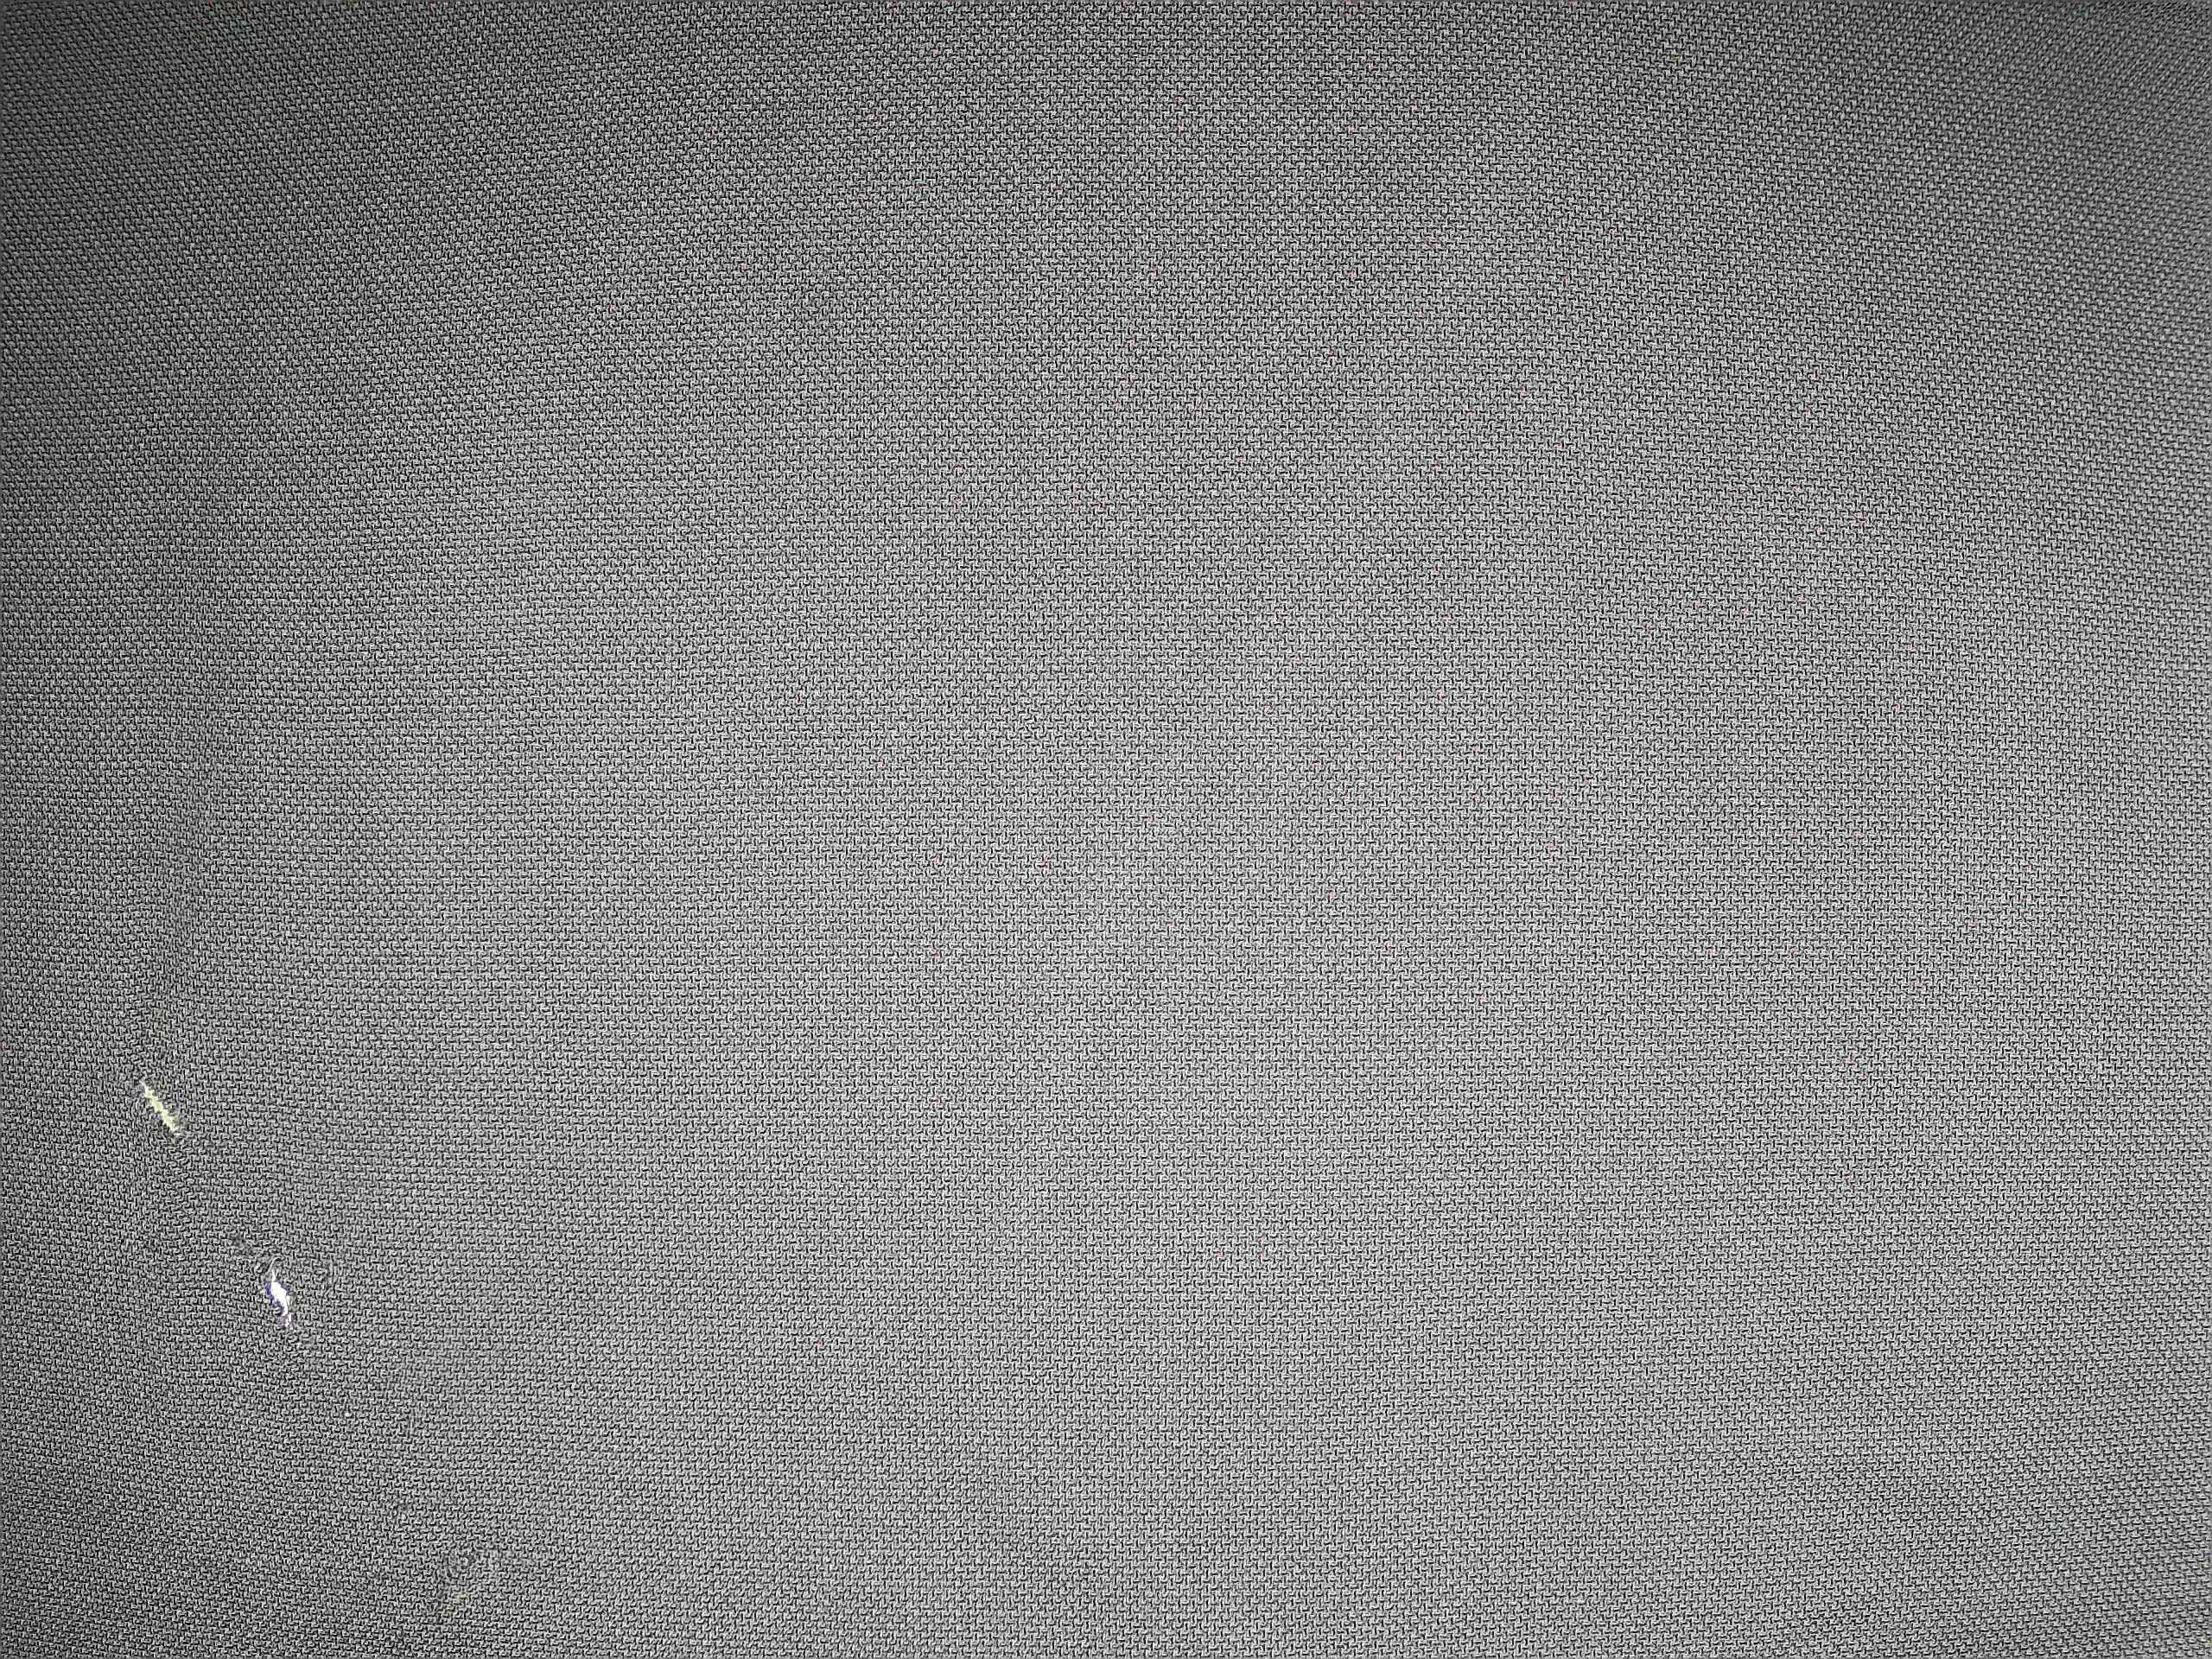rubbing-hole: (401, 1520, 557, 1638), (225, 1223, 331, 1358), (115, 1049, 225, 1175)
